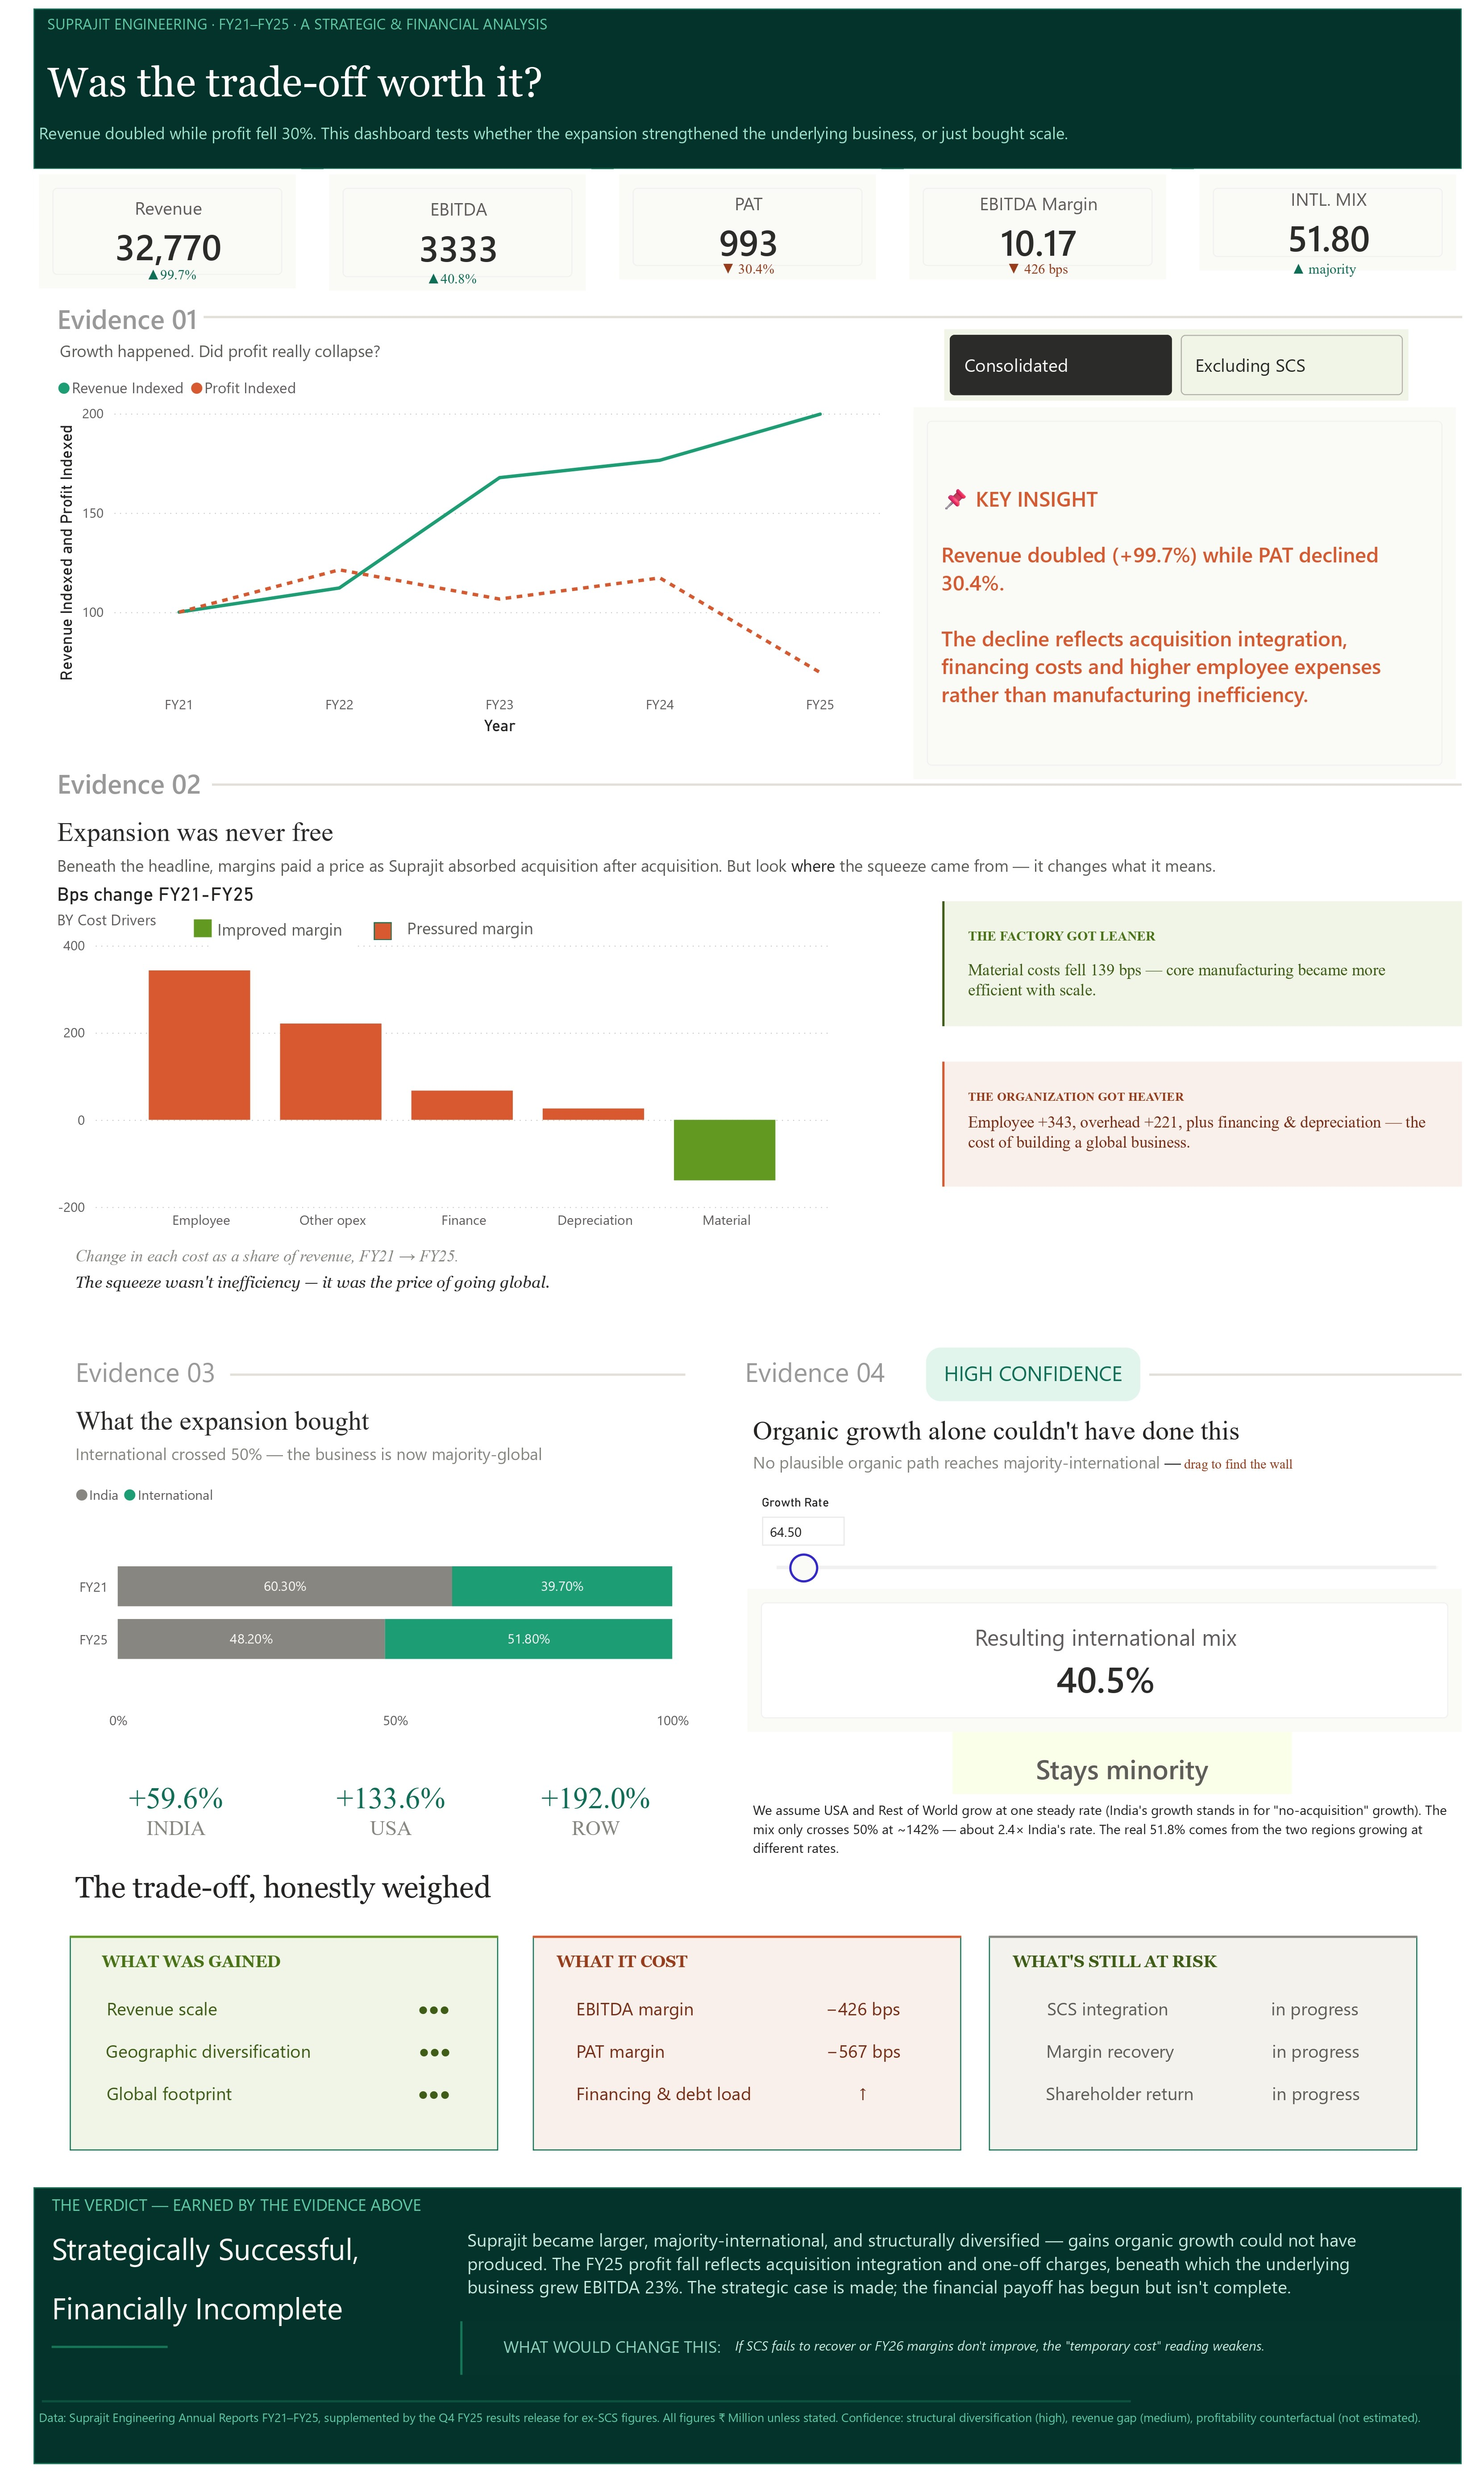

The page's visual inventory and layout, read from the dashboard file:
{"tool":"powerbi","page":{"name":"Page 1","canvas":[1280,2200],"ordinal":0},"visuals":[{"type":"shape","box":[0,0,1280,144],"z":0},{"type":"textbox","box":[8,0,472,32],"z":1000},{"type":"textbox","box":[8,40,480,56],"z":2000},{"type":"textbox","box":[0,96.2,1160,47.5],"z":3000},{"type":"cardVisual","fields":{"Data":["MEASURE.PAT"]},"box":[520,144,240,104],"z":4000},{"type":"cardVisual","fields":{"Data":["MEASURE.EBITDA Margin"]},"box":[780,144,240,104],"z":5000},{"type":"cardVisual","fields":{"Data":["MEASURE.INTL. MIX"]},"box":[1040,144,240,96],"z":6000},{"type":"hundredPercentStackedBarChart","fields":{"Category":["FACT_GEOGRAPHIC_MIX.fiscal_year"],"Y":["Sum(FACT_GEOGRAPHIC_MIX.mix_pct)"],"Series":["FACT_GEOGRAPHIC_MIX.geography"]},"box":[32,1312,560,240],"z":7000},{"type":"slicer","fields":{"Values":["Growth Rate 2.Growth Rate"]},"box":[640,1328,640,96],"z":8000},{"type":"cardVisual","fields":{"Data":["_measures for counterfactual.Scenario Verdict"]},"box":[824,1544,304,64],"z":9000},{"type":"shape","box":[0,1952,1280,248],"z":10000},{"type":"textbox","box":[16,1952,368,32],"z":11000},{"type":"textbox","box":[416,2080,224,32],"z":12000},{"type":"textbox","box":[384,1984,864,96],"z":13000},{"type":"textbox","box":[16,1984,304,112],"z":14000},{"type":"shape","box":[16,2088,104,16],"z":15000},{"type":"shape","box":[384,2072,896,48],"z":16000},{"type":"shape","box":[368,2072,32,48],"z":17000},{"type":"textbox","box":[624,2080,592,32],"z":18000},{"type":"shape","box":[8,2136,976,16],"z":19000},{"type":"textbox","box":[0,2144,1280,48],"z":20000},{"type":"shape","box":[32,1728,384,192],"z":21000},{"type":"shape","box":[448,1728,384,192],"z":22000},{"type":"shape","box":[856,1728,384,192],"z":23000},{"type":"shape","box":[32,1720,384,16],"z":24000},{"type":"shape","box":[856,1720,384,16],"z":25000},{"type":"shape","box":[448,1720,384,16],"z":26000},{"type":"textbox","box":[56,1736,184,32],"z":27000},{"type":"textbox","box":[48,1776,344,120],"z":28000},{"type":"textbox","box":[872,1736,240,32],"z":29000},{"type":"textbox","box":[464,1736,192,32],"z":30000},{"type":"textbox","box":[32,1664,416,48],"z":31000},{"type":"textbox","box":[464,1776,336,128],"z":32000},{"type":"textbox","box":[880,1776,336,128],"z":33000},{"type":"textbox","box":[632,1200,144,48],"z":34000},{"type":"textbox","box":[800,1200,192,48],"z":35000},{"type":"textbox","box":[640,1256,512,40],"z":36000},{"type":"cardVisual","fields":{"Data":["_measures for counterfactual.International Mix (Scenario)"]},"box":[640,1416,640,128],"z":37000},{"type":"textbox","box":[640,1288,592,32],"z":38000},{"type":"textbox","box":[640,1600,640,88],"z":39000},{"type":"textbox","box":[32,1200,144,48],"z":40000},{"type":"textbox","box":[32,1248,320,48],"z":41000},{"type":"textbox","box":[32,1280,432,32],"z":42000},{"type":"textbox","box":[64,1584,128,80],"z":43000},{"type":"textbox","box":[256,1584,128,80],"z":44000},{"type":"textbox","box":[440,1584,128,80],"z":45000},{"type":"textbox","box":[16,672,144,48],"z":46000},{"type":"textbox","box":[16,720,320,48],"z":47000},{"type":"textbox","box":[16,752,1056,32],"z":48000},{"type":"clusteredColumnChart","title":"Bps change FY21-FY25","fields":{"Category":["Margin Drivers (bps change FY21-FY25) (margin_bridge).cost_driver"],"Y":["Sum(Margin Drivers (bps change FY21-FY25) (margin_bridge).bps_change)"]},"box":[16,784,704,320],"z":49000},{"type":"shape","box":[143.8,816.2,16.2,16.2],"z":50000},{"type":"shape","box":[305,818.8,16.2,16.2],"z":51000},{"type":"textbox","box":[160,810,127.5,31.2],"z":52000},{"type":"textbox","box":[330,808.8,136.2,31.2],"z":53000},{"type":"textbox","box":[32,1104,368,32],"z":54000},{"type":"textbox","box":[32,1128,448,32],"z":55000},{"type":"shape","box":[816,800,464,112],"z":56000},{"type":"shape","box":[816,944,464,112],"z":57000},{"type":"shape","box":[808,800,16,112],"z":58000},{"type":"shape","box":[808,944,16,112],"z":59000},{"type":"textbox","box":[832,816,192,32],"z":60000},{"type":"textbox","box":[832,960,216,32],"z":61000},{"type":"textbox","box":[832,984,424,48],"z":62000},{"type":"textbox","box":[832,848,424,48],"z":63000},{"type":"lineChart","fields":{"Y":["FACT_HERO_TABLE.Revenue Indexed","FACT_HERO_TABLE.Profit Indexed"],"Category":["Years.Year"]},"box":[16.2,320,751.2,336.2],"z":64000},{"type":"advancedSlicerVisual","fields":{"Values":["FACT_HERO_TABLE.basis"]},"box":[816,288,416,64],"z":65000},{"type":"cardVisual","fields":{"Data":["MEASURE.EBITDA"]},"box":[260,144,240,114],"z":66000},{"type":"cardVisual","fields":{"Data":["MEASURE.Revenue"]},"box":[0,144,240,112],"z":67000},{"type":"textbox","box":[16,256,144,48],"z":68000},{"type":"cardVisual","fields":{"Data":["FACT_HERO_TABLE.Key Insight"]},"box":[783.8,352.5,496.2,343.8],"z":69000},{"type":"textbox","box":[96,224,56,32],"z":70000},{"type":"textbox","box":[352,232,56,24],"z":71000},{"type":"textbox","box":[616,224,56,24],"z":72000},{"type":"textbox","box":[872,224,72,24],"z":73000},{"type":"textbox","box":[1128,224,64,24],"z":74000},{"type":"shape","box":[152,272,1128,8],"z":75000},{"type":"shape","box":[160,688,1120,16],"z":76000},{"type":"shape","box":[176,1216,408,16],"z":77000},{"type":"shape","box":[1000,1216,280,16],"z":78000},{"type":"textbox","box":[18.8,291.2,311.2,31.2],"z":78001}]}

Visuals, with their boxes on the page's 1280x2200 design canvas (x1, y1, x2, y2). These are canvas units, not pixel positions in the 1484x2472 screenshot, which may show the page scaled, cropped or inside an application window:
shape: select_region(0, 0, 1280, 144)
textbox: select_region(8, 0, 480, 32)
textbox: select_region(8, 40, 488, 96)
textbox: select_region(0, 96, 1160, 144)
cardVisual - MEASURE.PAT: select_region(520, 144, 760, 248)
cardVisual - MEASURE.EBITDA Margin: select_region(780, 144, 1020, 248)
cardVisual - MEASURE.INTL. MIX: select_region(1040, 144, 1280, 240)
hundredPercentStackedBarChart - FACT_GEOGRAPHIC_MIX.fiscal_year x Sum(FACT_GEOGRAPHIC_MIX.mix_pct): select_region(32, 1312, 592, 1552)
slicer - Growth Rate 2.Growth Rate: select_region(640, 1328, 1280, 1424)
cardVisual - _measures for counterfactual.Scenario Verdict: select_region(824, 1544, 1128, 1608)
shape: select_region(0, 1952, 1280, 2200)
textbox: select_region(16, 1952, 384, 1984)
textbox: select_region(416, 2080, 640, 2112)
textbox: select_region(384, 1984, 1248, 2080)
textbox: select_region(16, 1984, 320, 2096)
shape: select_region(16, 2088, 120, 2104)
shape: select_region(384, 2072, 1280, 2120)
shape: select_region(368, 2072, 400, 2120)
textbox: select_region(624, 2080, 1216, 2112)
shape: select_region(8, 2136, 984, 2152)
textbox: select_region(0, 2144, 1280, 2192)
shape: select_region(32, 1728, 416, 1920)
shape: select_region(448, 1728, 832, 1920)
shape: select_region(856, 1728, 1240, 1920)
shape: select_region(32, 1720, 416, 1736)
shape: select_region(856, 1720, 1240, 1736)
shape: select_region(448, 1720, 832, 1736)
textbox: select_region(56, 1736, 240, 1768)
textbox: select_region(48, 1776, 392, 1896)
textbox: select_region(872, 1736, 1112, 1768)
textbox: select_region(464, 1736, 656, 1768)
textbox: select_region(32, 1664, 448, 1712)
textbox: select_region(464, 1776, 800, 1904)
textbox: select_region(880, 1776, 1216, 1904)
textbox: select_region(632, 1200, 776, 1248)
textbox: select_region(800, 1200, 992, 1248)
textbox: select_region(640, 1256, 1152, 1296)
cardVisual - _measures for counterfactual.International Mix (Scenario): select_region(640, 1416, 1280, 1544)
textbox: select_region(640, 1288, 1232, 1320)
textbox: select_region(640, 1600, 1280, 1688)
textbox: select_region(32, 1200, 176, 1248)
textbox: select_region(32, 1248, 352, 1296)
textbox: select_region(32, 1280, 464, 1312)
textbox: select_region(64, 1584, 192, 1664)
textbox: select_region(256, 1584, 384, 1664)
textbox: select_region(440, 1584, 568, 1664)
textbox: select_region(16, 672, 160, 720)
textbox: select_region(16, 720, 336, 768)
textbox: select_region(16, 752, 1072, 784)
"Bps change FY21-FY25" clusteredColumnChart: select_region(16, 784, 720, 1104)
shape: select_region(144, 816, 160, 832)
shape: select_region(305, 819, 321, 835)
textbox: select_region(160, 810, 288, 841)
textbox: select_region(330, 809, 466, 840)
textbox: select_region(32, 1104, 400, 1136)
textbox: select_region(32, 1128, 480, 1160)
shape: select_region(816, 800, 1280, 912)
shape: select_region(816, 944, 1280, 1056)
shape: select_region(808, 800, 824, 912)
shape: select_region(808, 944, 824, 1056)
textbox: select_region(832, 816, 1024, 848)
textbox: select_region(832, 960, 1048, 992)
textbox: select_region(832, 984, 1256, 1032)
textbox: select_region(832, 848, 1256, 896)
lineChart - FACT_HERO_TABLE.Revenue Indexed x FACT_HERO_TABLE.Profit Indexed: select_region(16, 320, 767, 656)
advancedSlicerVisual - FACT_HERO_TABLE.basis: select_region(816, 288, 1232, 352)
cardVisual - MEASURE.EBITDA: select_region(260, 144, 500, 258)
cardVisual - MEASURE.Revenue: select_region(0, 144, 240, 256)
textbox: select_region(16, 256, 160, 304)
cardVisual - FACT_HERO_TABLE.Key Insight: select_region(784, 352, 1280, 696)
textbox: select_region(96, 224, 152, 256)
textbox: select_region(352, 232, 408, 256)
textbox: select_region(616, 224, 672, 248)
textbox: select_region(872, 224, 944, 248)
textbox: select_region(1128, 224, 1192, 248)
shape: select_region(152, 272, 1280, 280)
shape: select_region(160, 688, 1280, 704)
shape: select_region(176, 1216, 584, 1232)
shape: select_region(1000, 1216, 1280, 1232)
textbox: select_region(19, 291, 330, 322)
